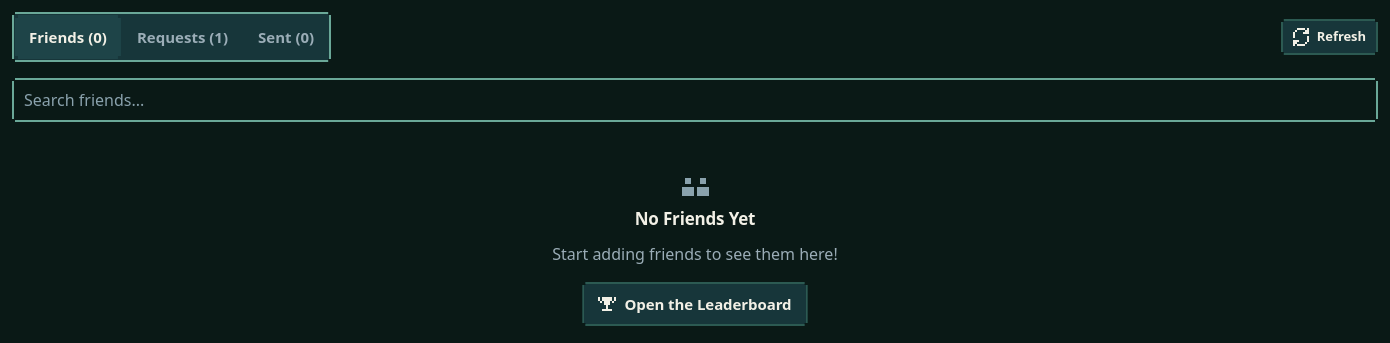
Test: FriendsList actions › a refused accept is shown
The image size is (1390, 343).
Click the button "Requests (1)": (183, 37) [123,15,242,59]
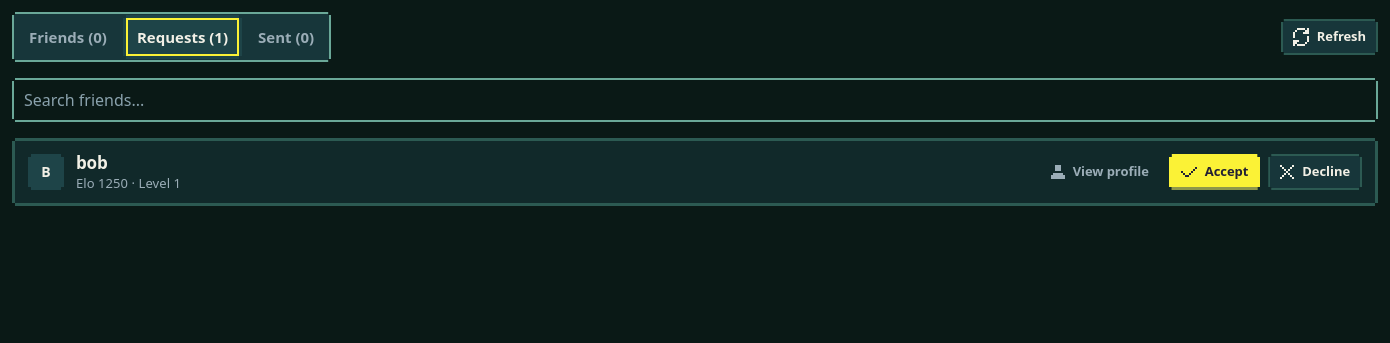
Click the button "Accept": (1215, 172) [1169,150,1260,194]
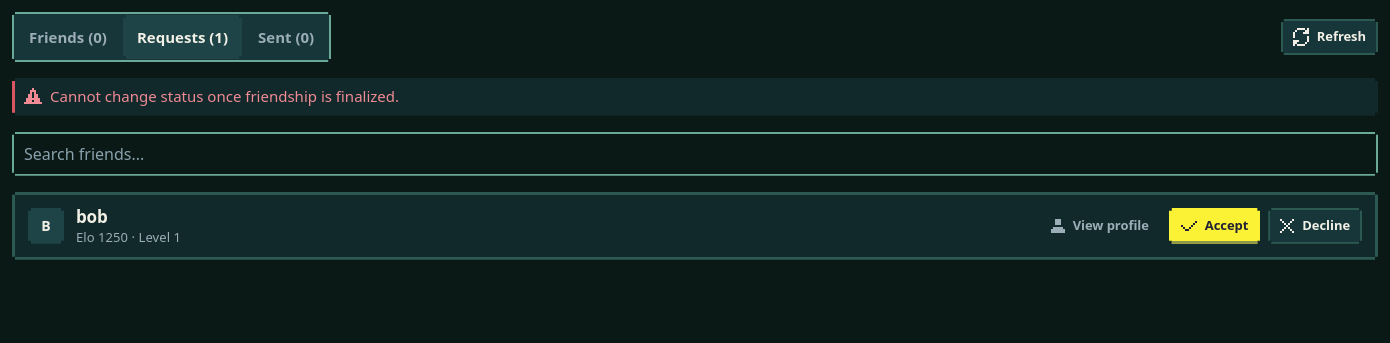
Expected: the message reads "Cannot change status once friendship is finalized.", [50,86,399,106]
